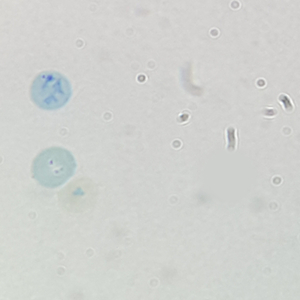aggregate reticulocyte: (28, 68, 74, 112)
erythrocyte: (30, 145, 78, 190), (56, 175, 100, 213)
